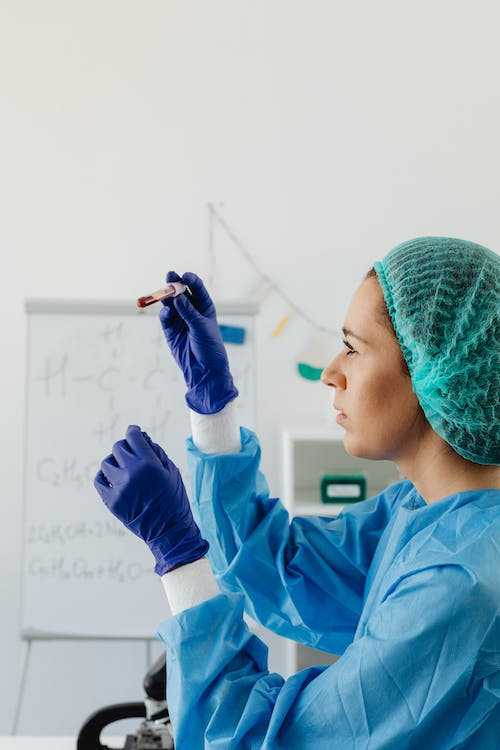blood: (134, 282, 169, 308)
